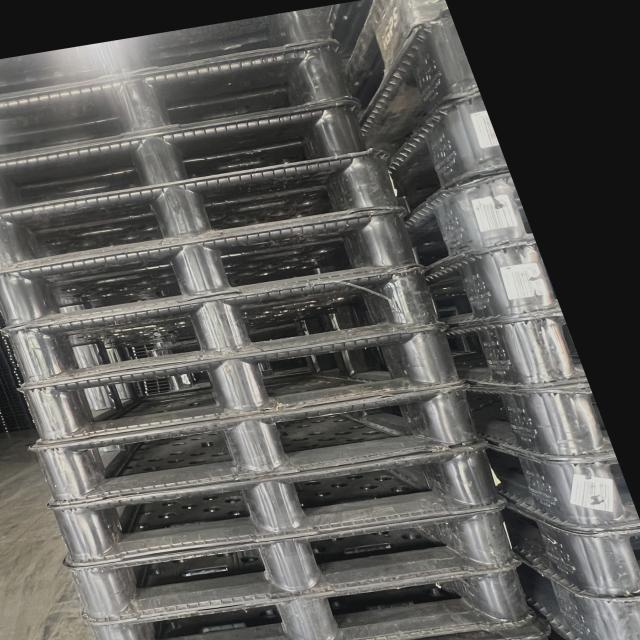igps: (45, 435, 513, 568), (23, 384, 494, 509), (12, 321, 474, 448), (59, 502, 528, 624), (0, 266, 449, 392), (0, 206, 435, 334), (0, 150, 443, 274), (0, 30, 367, 167), (0, 100, 381, 216), (77, 556, 540, 640), (0, 0, 346, 110), (353, 4, 475, 178), (402, 157, 550, 287), (383, 80, 507, 234), (491, 484, 640, 606), (320, 0, 451, 136), (458, 369, 623, 469), (417, 231, 567, 340), (482, 440, 640, 542), (442, 301, 599, 402), (505, 543, 640, 640)
